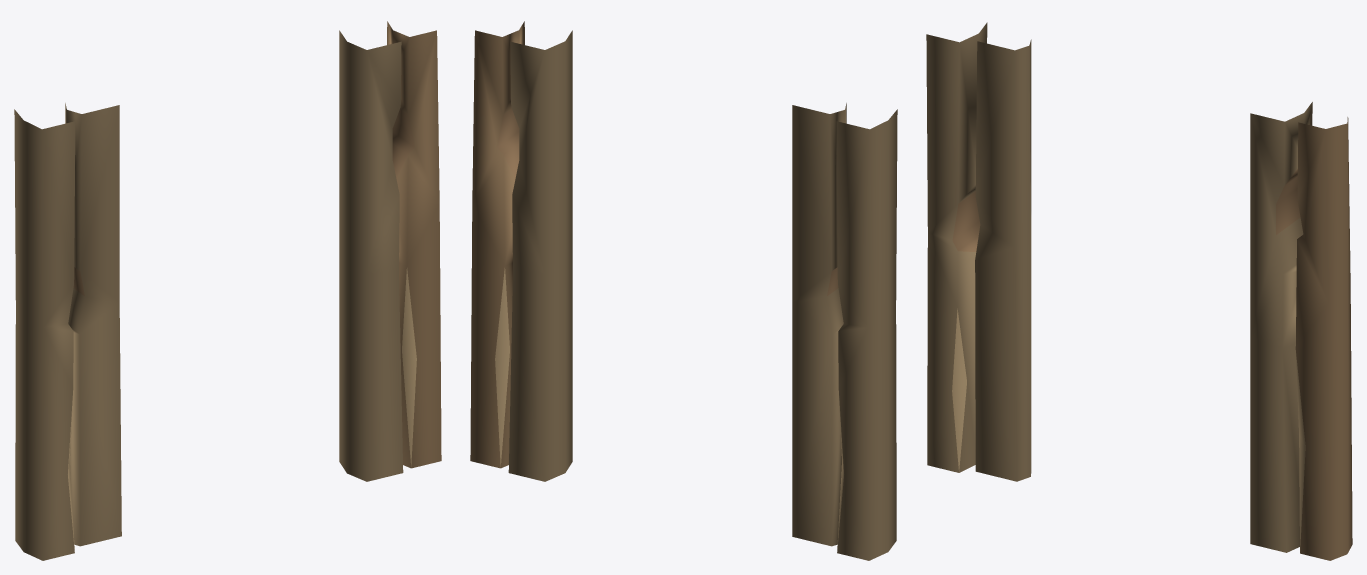
Rendered from rpgpp_av_wall_02_3x3_door_a.gltf.
3 views of the same model, side by side, from view 1: azimuth 30°, elevation 25°; view 2: azimuth 150°, elevation 25°; view 3: azimuth 330°, elevation 25° (orthographic).
Visible parts, largest first — view 1: rpgpp_av_wall_02_3x3_door_a; view 2: rpgpp_av_wall_02_3x3_door_a; view 3: rpgpp_av_wall_02_3x3_door_a.
Part boxes in pixels (box(x1,y1,x2,y2)): rpgpp_av_wall_02_3x3_door_a: box(14, 21, 441, 560); rpgpp_av_wall_02_3x3_door_a: box(470, 21, 897, 560); rpgpp_av_wall_02_3x3_door_a: box(926, 22, 1352, 560).
Bounding box in the file's own units: 0.03 × 0.03 × 0.00349.
1 material, 1 textured.
